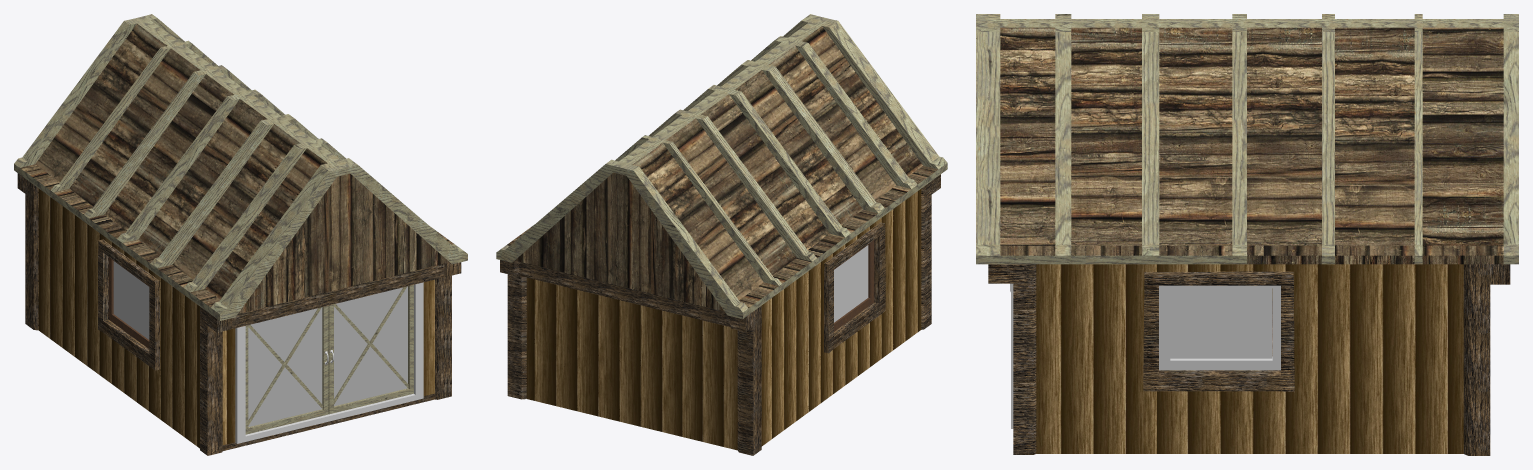
File: OldHouse.fbx
3 renders of one model, left to right at view 1: azimuth 30°, elevation 25°; view 2: azimuth 150°, elevation 25°; view 3: azimuth 270°, elevation 25°, orthographic. The views are drawn at different scales.
Parts seen in each view (by area): view 1: Plane.000, Cube.002, Cube.023, Cube.022, Cube.025, Cube.024; view 2: Plane.000, Cube.025, Cube.024; view 3: Plane.000, Cube.027, Cube.026.
Part boxes in pixels (x1,y1,x2,y2): Plane.000: (14, 14, 467, 455); Cube.002: (328, 285, 413, 414); Cube.023: (245, 305, 328, 434); Cube.022: (235, 282, 423, 443); Cube.025: (113, 261, 149, 339); Cube.024: (108, 257, 149, 348); Plane.000: (496, 14, 947, 455); Cube.025: (834, 245, 868, 322); Cube.024: (834, 240, 874, 331); Plane.000: (976, 14, 1518, 455); Cube.027: (1170, 288, 1272, 358); Cube.026: (1159, 285, 1280, 370).
Size of the model in its own units: 6.25 by 6.39 by 8.9.
